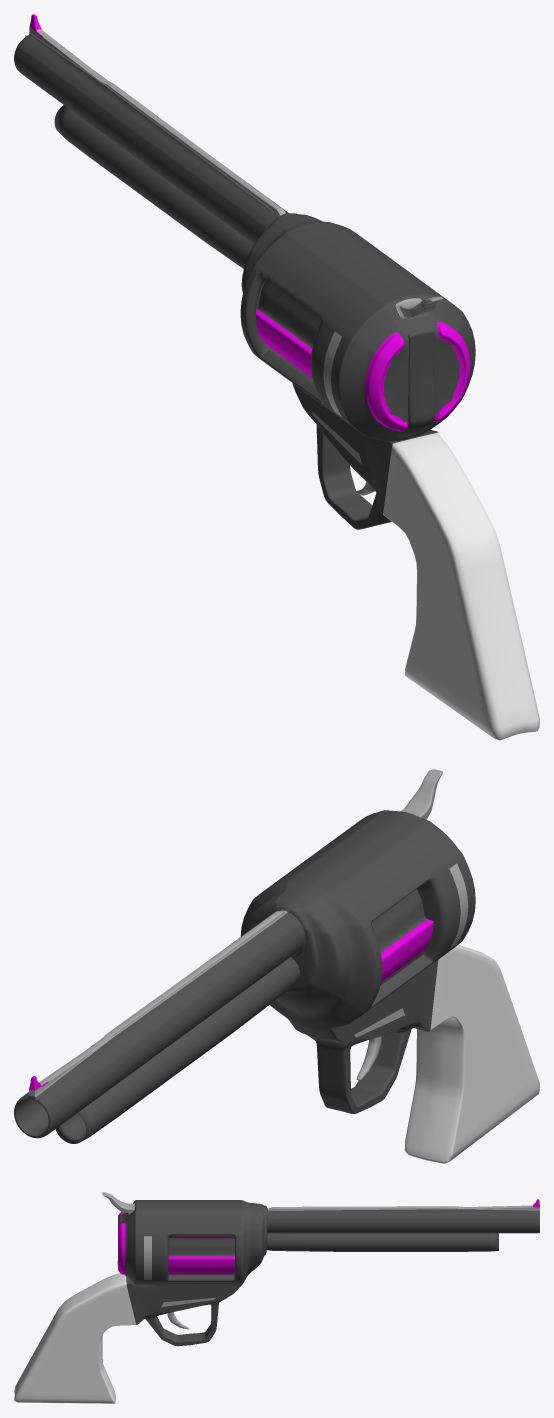
The model's file is Revolver.fbx.
The picture shows the model from 3 angles, top to bottom: view 1: azimuth 30°, elevation 25°; view 2: azimuth 150°, elevation 25°; view 3: azimuth 270°, elevation 25°; orthographic projection. The views are drawn at different scales.
Visible parts, largest first — view 1: Revolver; view 2: Revolver; view 3: Revolver.
Part boxes in pixels (x1,y1,x2,y2): Revolver: (14,14,539,740); Revolver: (14,769,539,1163); Revolver: (14,1192,539,1403).
Bounding box in the file's own units: 2.82 × 7.48 × 17.36.
